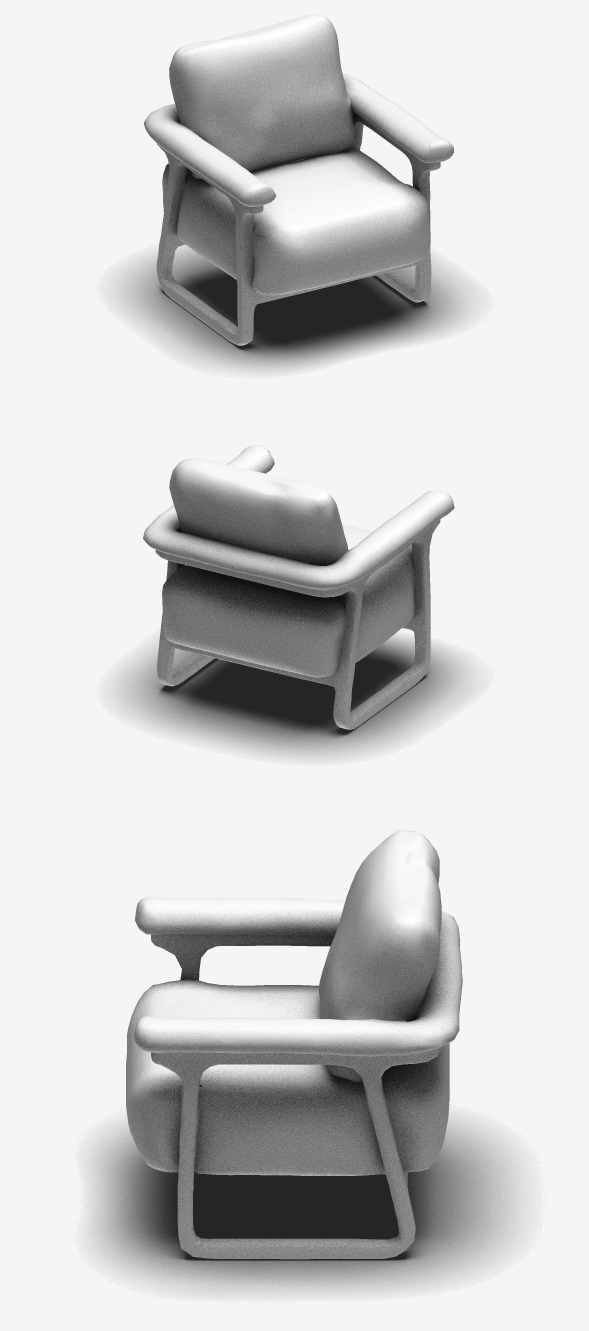
Rendered from mani--maniset--tak--e3585876.glb.
The picture shows the model from 3 angles, top to bottom: view 1: azimuth 30°, elevation 25°; view 2: azimuth 150°, elevation 25°; view 3: azimuth 270°, elevation 25°; orthographic projection. The views are drawn at different scales.
Parts seen in each view (by area): view 1: mani--maniset--tak--e3585876__nodes_2_tripo_node_7709dc39, mani--maniset--tak--e3585876__nodes_1_hadowPlane_tripo_node_; view 2: mani--maniset--tak--e3585876__nodes_2_tripo_node_7709dc39, mani--maniset--tak--e3585876__nodes_1_hadowPlane_tripo_node_; view 3: mani--maniset--tak--e3585876__nodes_2_tripo_node_7709dc39, mani--maniset--tak--e3585876__nodes_1_hadowPlane_tripo_node_.
Boxes of the visible parts, x1,y1,x2,y2 form: mani--maniset--tak--e3585876__nodes_2_tripo_node_7709dc39: [144, 14, 453, 345]; mani--maniset--tak--e3585876__nodes_1_hadowPlane_tripo_node_: [122, 247, 466, 368]; mani--maniset--tak--e3585876__nodes_2_tripo_node_7709dc39: [143, 445, 454, 729]; mani--maniset--tak--e3585876__nodes_1_hadowPlane_tripo_node_: [121, 636, 466, 755]; mani--maniset--tak--e3585876__nodes_2_tripo_node_7709dc39: [126, 829, 462, 1259]; mani--maniset--tak--e3585876__nodes_1_hadowPlane_tripo_node_: [94, 1122, 512, 1290].
Size of what is drawn, in the model's own units: 1.48 by 0.9447 by 1.47.
Materials: 3 (3 with a texture image).
